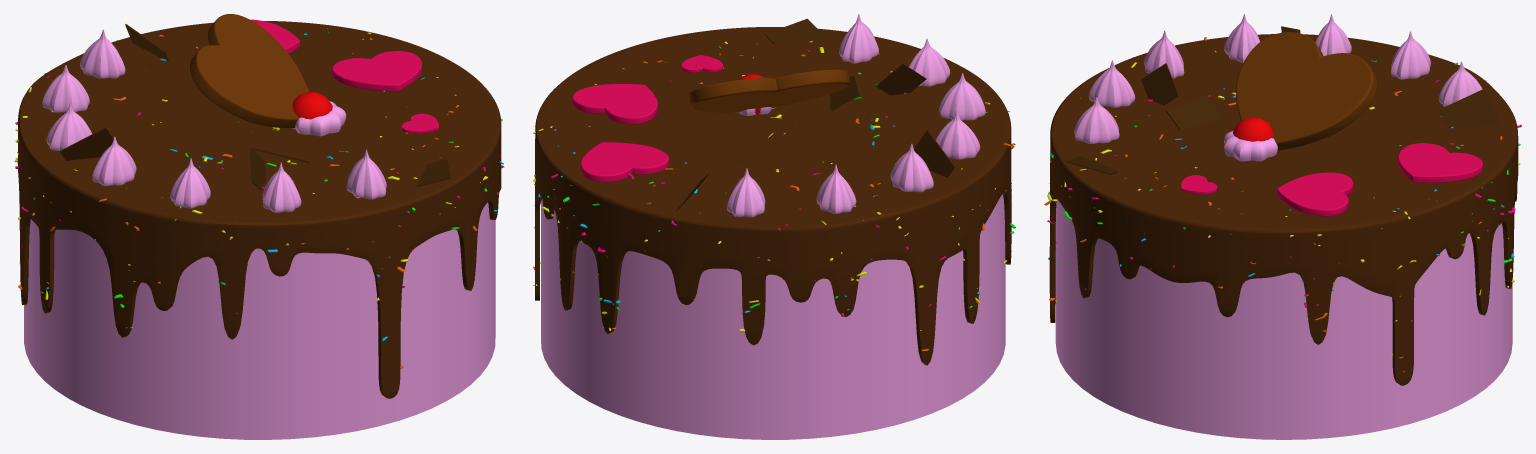
The model's file is Cake.fbx.
The picture shows the model from 3 angles, left to right: view 1: azimuth 30°, elevation 25°; view 2: azimuth 150°, elevation 25°; view 3: azimuth 270°, elevation 25°; orthographic projection. The views are drawn at different scales.
Visible parts, largest first — view 1: Chocolate.002, Cake.001, icing.003, Heart.005, Heart.007, Plane.010, icing.004, Sphere.001, Heart.008, Heart.006, Plane.009, Plane.007 (+1 smaller); view 2: Chocolate.002, Cake.001, icing.003, Heart.005, Heart.008, Heart.007, Plane.010, Plane.009, Plane.007, Heart.006, Plane.008; view 3: Chocolate.002, Cake.001, Heart.005, icing.003, Heart.008, Heart.007, Plane.011, Plane.008, icing.004, Plane.007, Sphere.001, Heart.006.
Boxes of the visible parts, x1,y1,x2,y2 form: Chocolate.002: (17, 21, 501, 398); Cake.001: (24, 202, 495, 439); icing.003: (42, 29, 386, 212); Heart.005: (190, 14, 309, 127); Heart.007: (332, 51, 421, 91); Plane.010: (59, 127, 113, 160); icing.004: (292, 101, 346, 136); Sphere.001: (292, 91, 332, 119); Heart.008: (250, 19, 299, 53); Heart.006: (401, 113, 438, 133); Plane.009: (416, 159, 450, 186); Plane.007: (249, 147, 265, 189); Chocolate.002: (535, 27, 1011, 365); Cake.001: (541, 194, 1005, 439); icing.003: (726, 14, 985, 217); Heart.005: (689, 69, 849, 112); Heart.008: (580, 142, 668, 182); Heart.007: (572, 84, 657, 124); Plane.010: (914, 130, 954, 177); Plane.009: (765, 18, 826, 44); Plane.007: (876, 63, 926, 95); Heart.006: (681, 55, 723, 72); Plane.008: (830, 75, 859, 110); Chocolate.002: (1049, 34, 1518, 385); Cake.001: (1055, 199, 1512, 439); Heart.005: (1235, 32, 1377, 150); icing.003: (1074, 14, 1482, 143); Heart.008: (1398, 143, 1482, 182); Heart.007: (1277, 172, 1353, 216); Plane.011: (1439, 88, 1502, 128); Plane.008: (1166, 95, 1223, 129); icing.004: (1224, 130, 1277, 161); Plane.007: (1141, 63, 1178, 105); Sphere.001: (1233, 117, 1273, 141); Heart.006: (1181, 175, 1217, 194).
Bounding box in the file's own units: 207 × 138 × 209.
